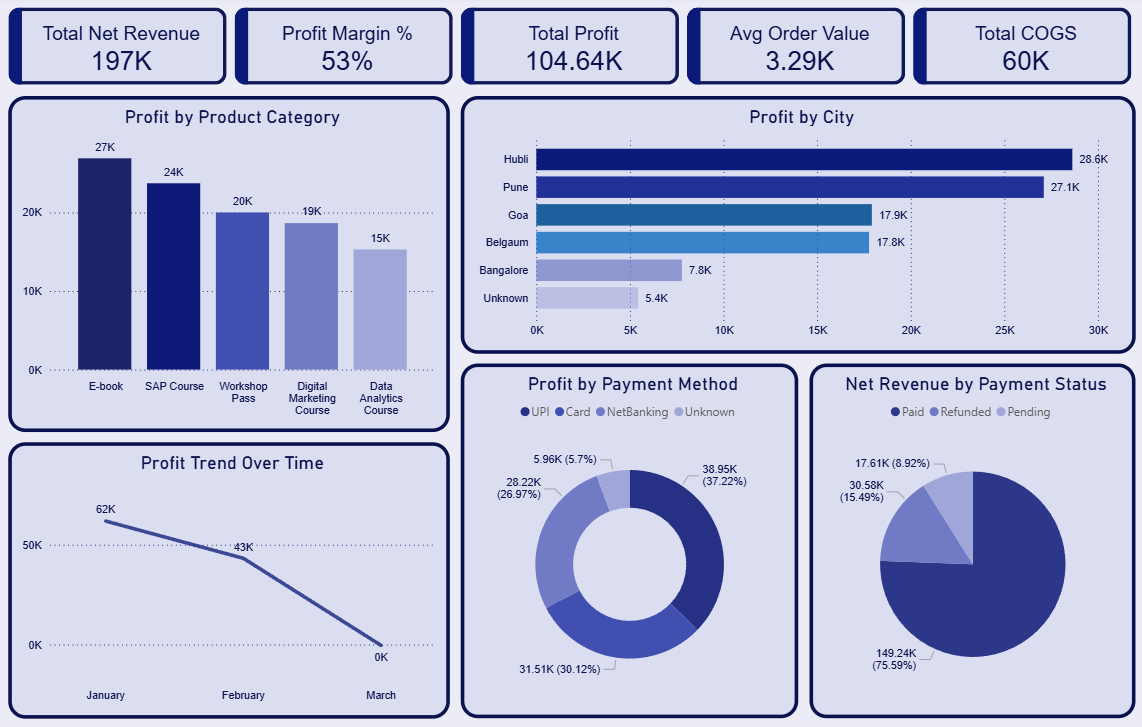

This screenshot's page, from the dashboard's own definition file:
{"tool":"powerbi","page":{"name":"financial_profitability_analysis_dashboard","canvas":[1280,820],"ordinal":1},"visuals":[{"type":"clusteredColumnChart","title":"Profit by Product Category","fields":{"Category":["Marketing_Finance_Project_clean.ProductCategory"],"Y":["Marketing_Finance_Project_clean.TotalProfit"]},"box":[12.5,111.4,491.6,374.6],"z":3250},{"type":"donutChart","title":"Profit by Payment Method","fields":{"Category":["Marketing_Finance_Project_clean.PaymentMethod"],"Y":["Marketing_Finance_Project_clean.TotalProfit"]},"box":[516.7,409.4,376,395.5],"z":3375},{"type":"clusteredBarChart","title":"Profit by City","fields":{"Category":["Marketing_Finance_Project_clean.City"],"Y":["Marketing_Finance_Project_clean.TotalProfit"]},"box":[516.7,111.4,752,286.9],"z":3500},{"type":"cardVisual","fields":{"Data":["Marketing_Finance_Project_clean.TotalNetRevenue","Marketing_Finance_Project_clean.ProfitMargin%","Marketing_Finance_Project_clean.TotalProfit","Marketing_Finance_Project_clean.AvgOrderValue","Marketing_Finance_Project_clean.TotalCOGS"]},"box":[0,0,1280.3,112.4],"z":6000},{"type":"pieChart","title":"Net Revenue by Payment Status","fields":{"Category":["Marketing_Finance_Project_clean.PaymentStatus"],"Y":["Marketing_Finance_Project_clean.TotalNetRevenue"]},"box":[905.2,409.4,363.5,395.5],"z":6250},{"type":"lineChart","title":"Profit Trend Over Time","fields":{"Category":["Marketing_Finance_Project_clean.OrderDate.Variation.Date Hierarchy.Month"],"Y":["Marketing_Finance_Project_clean.TotalProfit"]},"box":[12.5,497.2,491.6,307.8],"z":6500}]}

Visuals, with their boxes in screenshot pixels (x1, y1, x2, y2), scaled from the page's 1280x820 canvas onto the 1142x727 screenshot:
"Profit by Product Category" clusteredColumnChart: bbox=[11, 99, 450, 431]
"Profit by Payment Method" donutChart: bbox=[461, 363, 796, 714]
"Profit by City" clusteredBarChart: bbox=[461, 99, 1132, 353]
cardVisual - Marketing_Finance_Project_clean.TotalNetRevenue x Marketing_Finance_Project_clean.ProfitMargin%: bbox=[0, 0, 1141, 100]
"Net Revenue by Payment Status" pieChart: bbox=[808, 363, 1132, 714]
"Profit Trend Over Time" lineChart: bbox=[11, 441, 450, 714]
